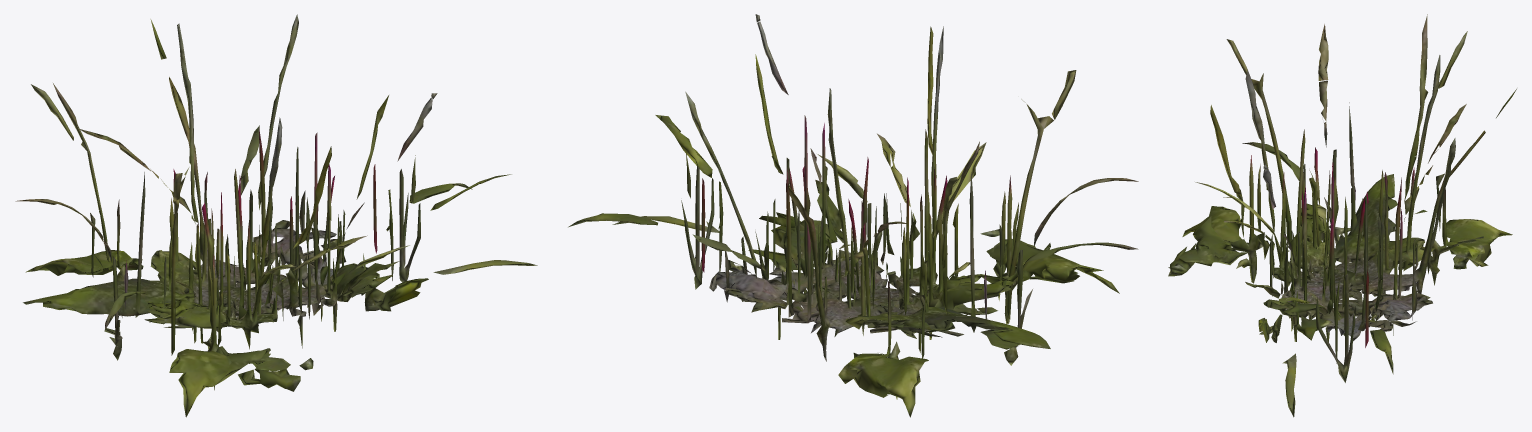
Rendered from grass.glb.
3 renders of one model, left to right at view 1: azimuth 30°, elevation 25°; view 2: azimuth 150°, elevation 25°; view 3: azimuth 270°, elevation 25°, orthographic. The views are drawn at different scales.
Visible parts, largest first — view 1: tripo_node_b1afacd8-46f4-4db0-8763-a172afa6c765; view 2: tripo_node_b1afacd8-46f4-4db0-8763-a172afa6c765; view 3: tripo_node_b1afacd8-46f4-4db0-8763-a172afa6c765.
Part boxes in pixels (<box>): tripo_node_b1afacd8-46f4-4db0-8763-a172afa6c765: <box>15,14,537,417</box>; tripo_node_b1afacd8-46f4-4db0-8763-a172afa6c765: <box>568,14,1138,417</box>; tripo_node_b1afacd8-46f4-4db0-8763-a172afa6c765: <box>1168,14,1516,417</box>.
Size of the model in its own units: 0.9794 by 0.5131 by 0.6282.
1 material, 1 textured.
